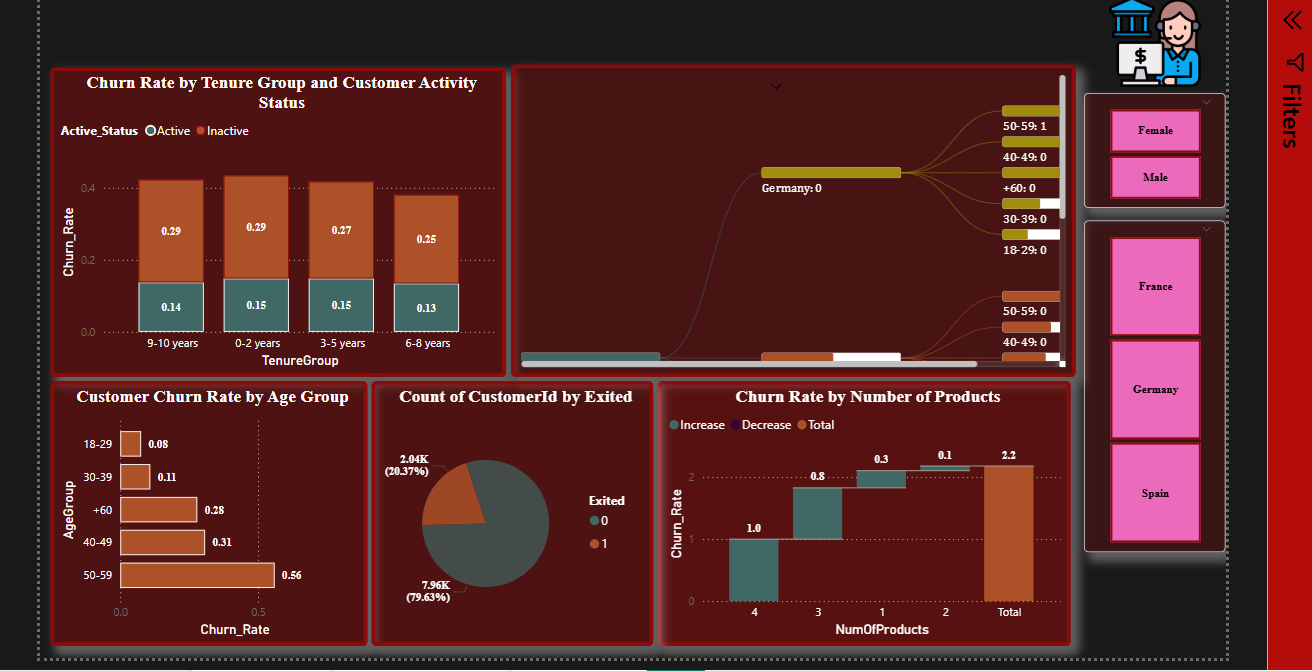

The page's visual inventory and layout, read from the dashboard file:
{"tool":"powerbi","page":{"name":"Anyalysis","canvas":[1280,720],"ordinal":2},"visuals":[{"type":"columnChart","title":"Churn Rate by Tenure Group and Customer Activity Status","fields":{"Category":["Bank_Churn_Modelling.TenureGroup"],"Series":["Bank_Churn_Modelling.Active_Status"],"Y":["Bank_Churn_Modelling.Churn_Rate"]},"box":[11.1,82,491.5,334],"z":0},{"type":"decomposition50DB3783432B40A69C0B91926CE74CD9","title":"Decomposition of Churn Rate by Age Group and Geography","fields":{"Measure":["Bank_Churn_Modelling.Churn_Rate"],"Category":["Bank_Churn_Modelling.Geography","Bank_Churn_Modelling.AgeGroup"]},"box":[508,80,609.2,337.2],"z":1000},{"type":"barChart","title":"Customer Churn Rate by Age Group","fields":{"Y":["Bank_Churn_Modelling.Churn_Rate"],"Category":["Bank_Churn_Modelling.AgeGroup"]},"box":[11.1,421.5,342,286.3],"z":2000},{"type":"waterfallChart","title":"Churn Rate by Number of Products","fields":{"Category":["Bank_Churn_Modelling.NumOfProducts"],"Y":["Bank_Churn_Modelling.Churn_Rate"]},"box":[667,421.5,445.4,286.3],"z":3000},{"type":"pieChart","fields":{"Category":["Bank_Churn_Modelling.Exited"],"Y":["CountNonNull(Bank_Churn_Modelling.CustomerId)"]},"box":[358,421,303.8,286.3],"z":4000},{"type":"slicer","title":"Gender","fields":{"Values":["Bank_Churn_Modelling.Gender"]},"box":[1127.7,109.8,152.7,124.1],"z":5000},{"type":"slicer","title":"Geography","fields":{"Values":["Bank_Churn_Modelling.Geography"]},"box":[1127.7,248.1,152.7,357.9],"z":6000},{"type":"image","box":[1148.4,0,111.3,109.8],"z":7000}]}

Visuals, with their boxes in screenshot pixels (x1, y1, x2, y2):
"Churn Rate by Tenure Group and Customer Activity Status" columnChart: {"left": 55, "top": 85, "right": 505, "bottom": 392}
"Decomposition of Churn Rate by Age Group and Geography" decomposition50DB3783432B40A69C0B91926CE74CD9: {"left": 510, "top": 84, "right": 1069, "bottom": 393}
"Customer Churn Rate by Age Group" barChart: {"left": 55, "top": 397, "right": 368, "bottom": 659}
"Churn Rate by Number of Products" waterfallChart: {"left": 656, "top": 397, "right": 1065, "bottom": 659}
pieChart - Bank_Churn_Modelling.Exited x CountNonNull(Bank_Churn_Modelling.CustomerId): {"left": 373, "top": 396, "right": 651, "bottom": 659}
"Gender" slicer: {"left": 1079, "top": 111, "right": 1219, "bottom": 225}
"Geography" slicer: {"left": 1079, "top": 238, "right": 1219, "bottom": 566}
image: {"left": 1098, "top": 10, "right": 1200, "bottom": 111}
